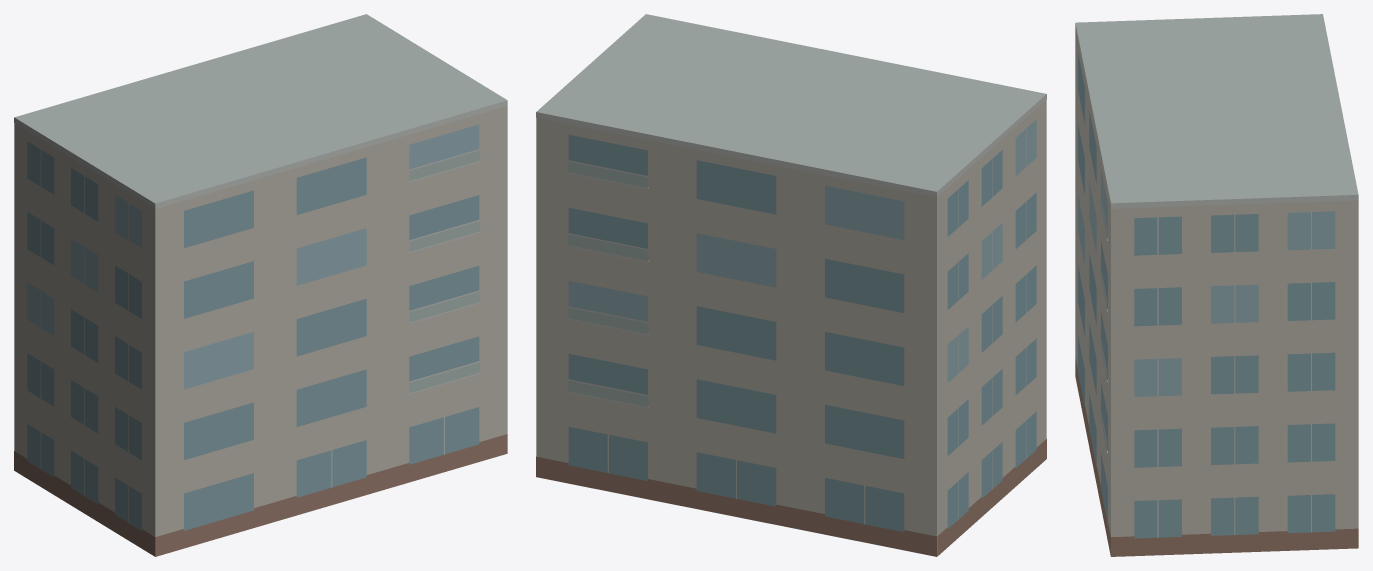
The model's file is survey-upis-32945274.glb.
3 views of the same model, side by side, from view 1: azimuth 30°, elevation 25°; view 2: azimuth 150°, elevation 25°; view 3: azimuth 270°, elevation 25° (orthographic). The views are drawn at different scales.
Visible parts, largest first — view 1: survey-upis-32945274.tmp; view 2: survey-upis-32945274.tmp; view 3: survey-upis-32945274.tmp.
Boxes of the visible parts, <box> form: survey-upis-32945274.tmp: <box>14,14,507,556</box>; survey-upis-32945274.tmp: <box>536,14,1046,556</box>; survey-upis-32945274.tmp: <box>1075,14,1358,556</box>.
Size of the model in its own units: 17.92 by 15.6 by 11.34.
